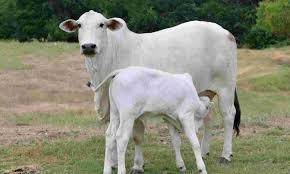cow: (60, 11, 237, 174), (101, 67, 217, 174)
